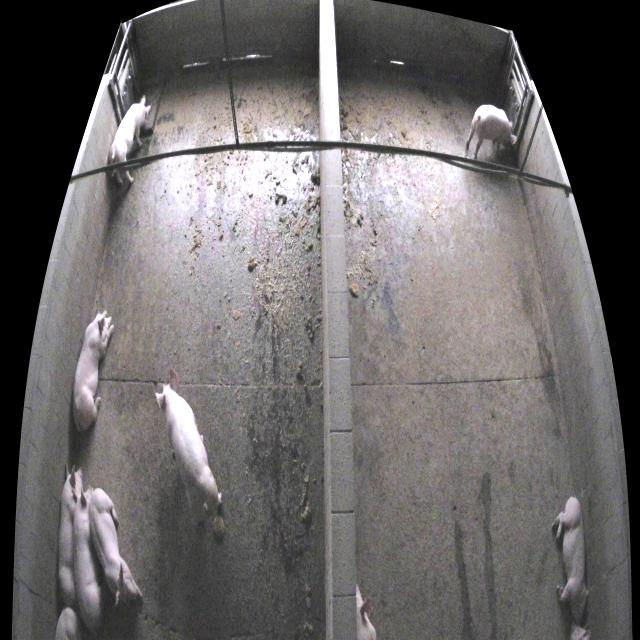pig: (156, 369, 222, 522), (90, 488, 142, 608), (73, 308, 114, 433), (71, 483, 104, 630), (552, 497, 589, 623), (109, 95, 151, 184), (59, 462, 83, 606), (466, 105, 517, 160), (357, 585, 377, 640), (56, 607, 78, 639)
